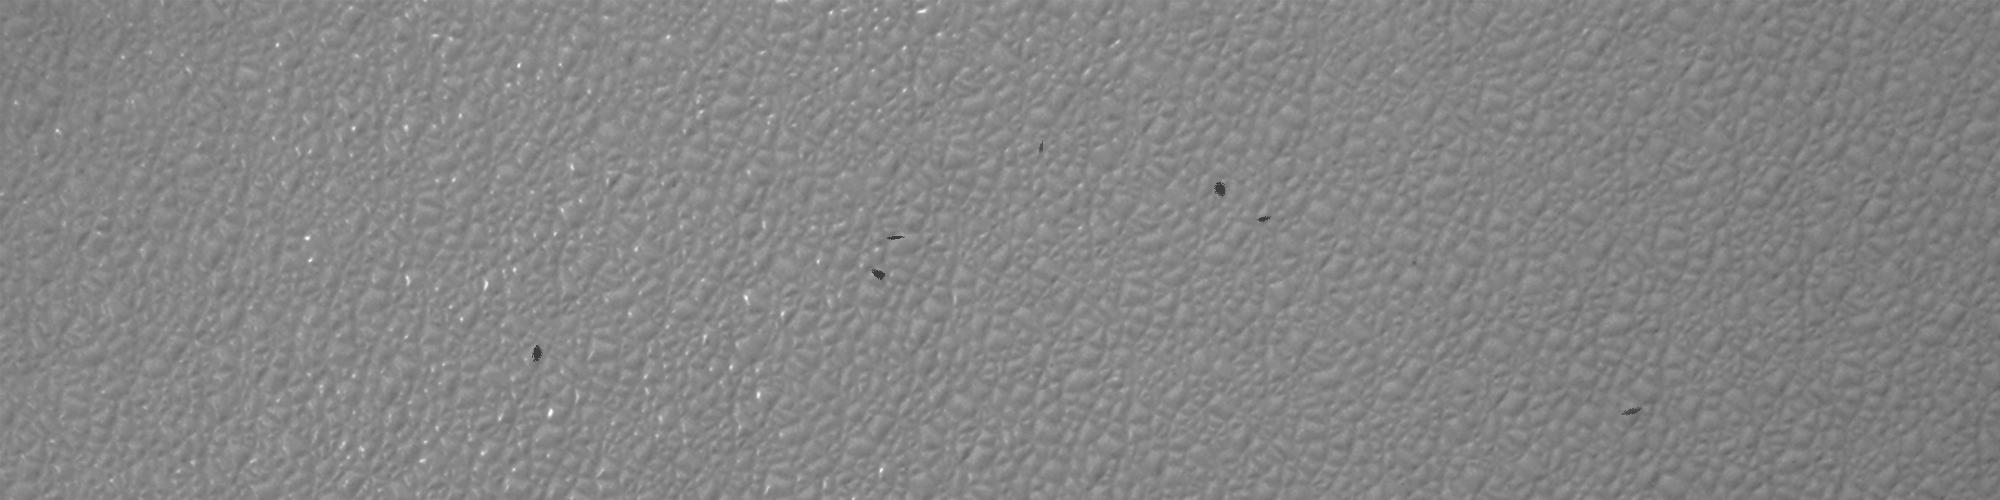Decomposed: (1240, 204, 1287, 233), (879, 230, 909, 253), (1621, 399, 1645, 427), (1203, 173, 1228, 196), (528, 338, 548, 365), (1029, 136, 1050, 159), (870, 259, 884, 290)
